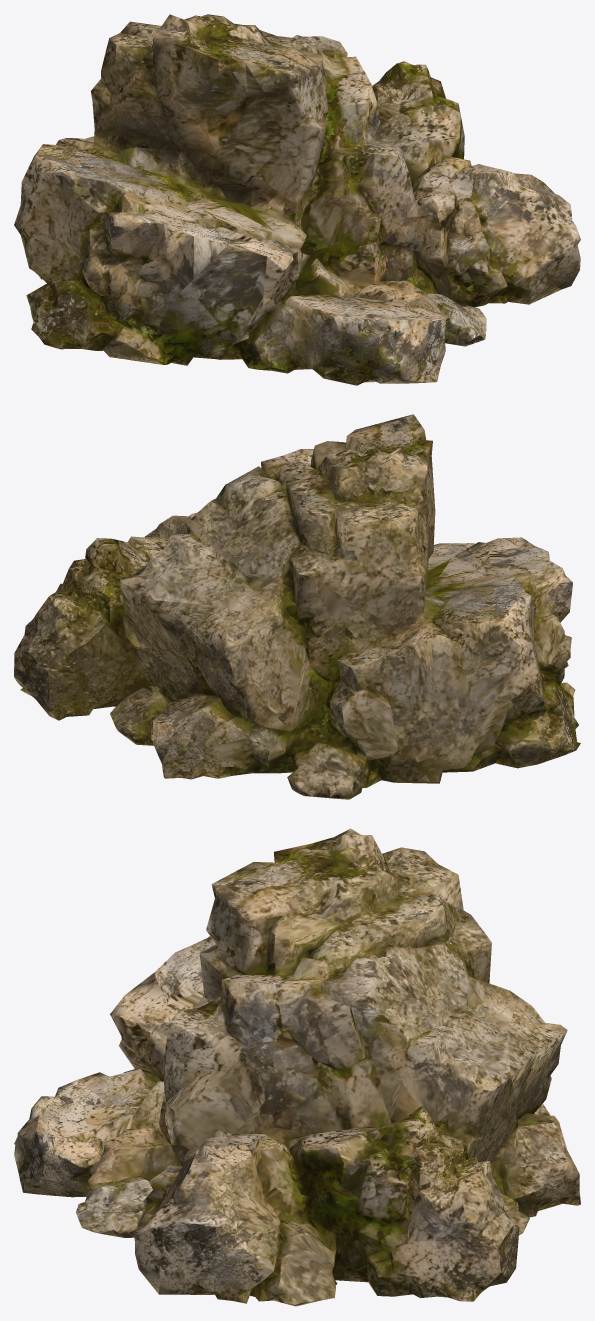
The model's file is ROC_RocaFragmentada_01_LOD1.fbx.
3 renders of one model, top to bottom at view 1: azimuth 30°, elevation 25°; view 2: azimuth 150°, elevation 25°; view 3: azimuth 270°, elevation 25°, orthographic. The views are drawn at different scales.
Visible parts, largest first — view 1: ROC_RocaFragmentada_01_Mesh000; view 2: ROC_RocaFragmentada_01_Mesh000; view 3: ROC_RocaFragmentada_01_Mesh000.
Boxes of the visible parts, x1,y1,x2,y2 form: ROC_RocaFragmentada_01_Mesh000: [14, 14, 580, 385]; ROC_RocaFragmentada_01_Mesh000: [14, 414, 580, 799]; ROC_RocaFragmentada_01_Mesh000: [14, 828, 580, 1306].
Bounding box in the file's own units: 2.8 × 1.56 × 2.63.
